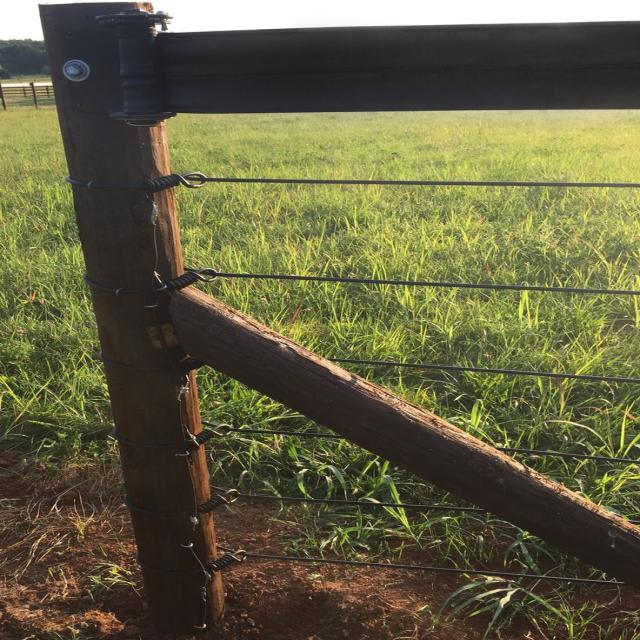fence: (33, 0, 638, 633)
